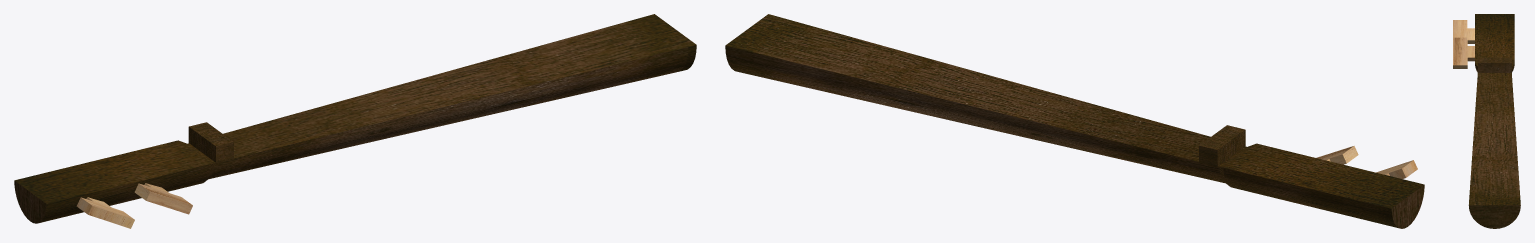
File: Sap.fbx
The picture shows the model from 3 angles, left to right: view 1: azimuth 30°, elevation 25°; view 2: azimuth 150°, elevation 25°; view 3: azimuth 270°, elevation 25°; orthographic projection. The views are drawn at different scales.
Parts seen in each view (by area): view 1: Sap.002; view 2: Sap.002; view 3: Sap.002.
Part boxes in pixels (bbox=[...]): Sap.002: bbox=[14, 14, 696, 228]; Sap.002: bbox=[725, 14, 1424, 228]; Sap.002: bbox=[1453, 14, 1520, 228].
Size of the model in its own units: 0.6 by 0.0412 by 0.0882.
